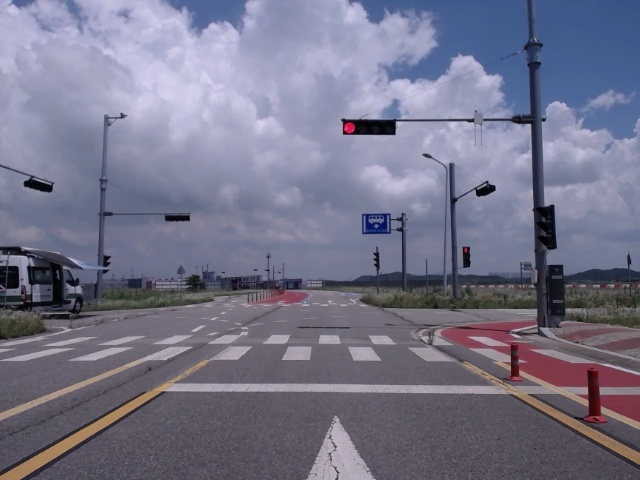red_4: (342, 121, 396, 135)
